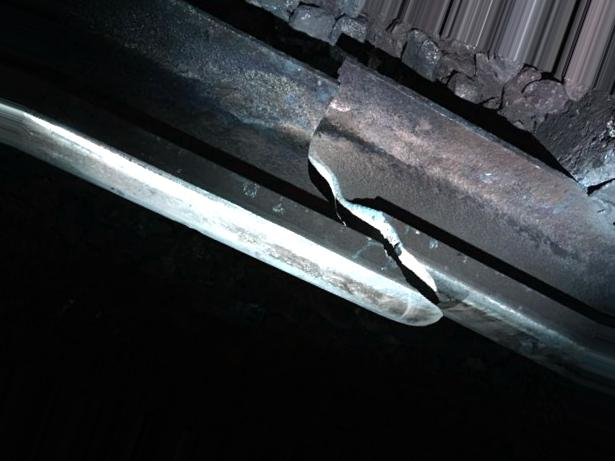tracks_fault: (269, 27, 468, 355)
